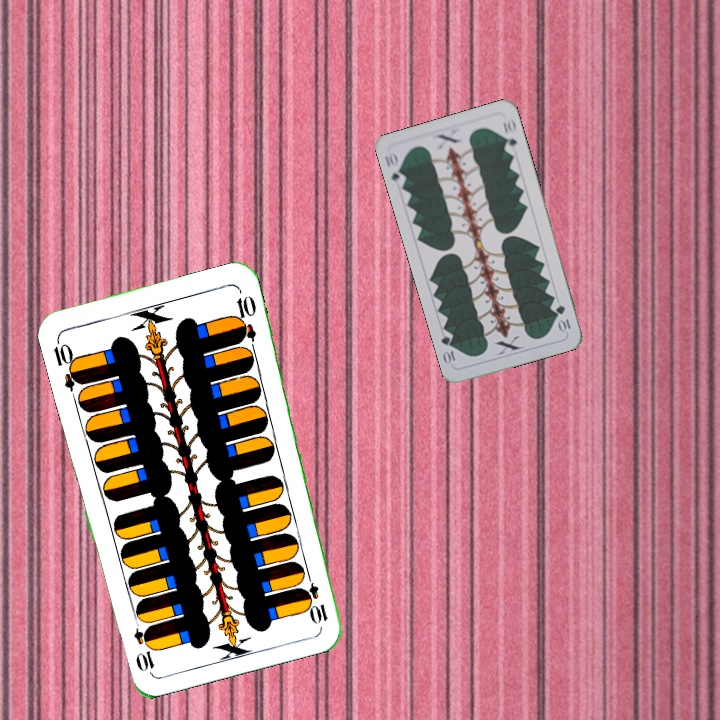E10: (49, 334, 85, 392), (300, 568, 331, 626)
G10: (380, 147, 408, 189), (552, 301, 573, 335)
